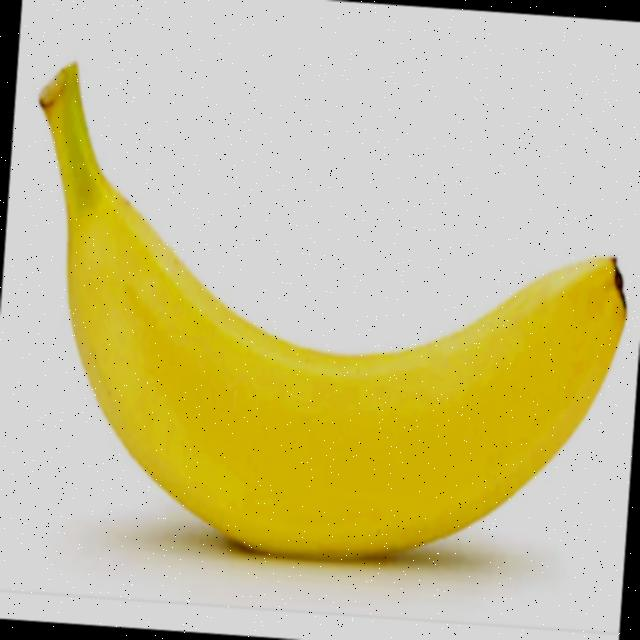Ripe: (0, 39, 640, 610)
